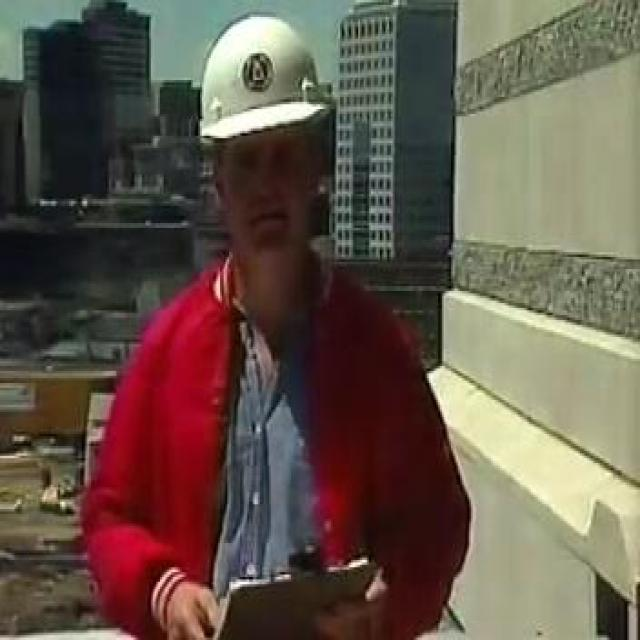Reflective-Jacket: (61, 252, 464, 640)
Safety-Helmet: (177, 5, 346, 160)
